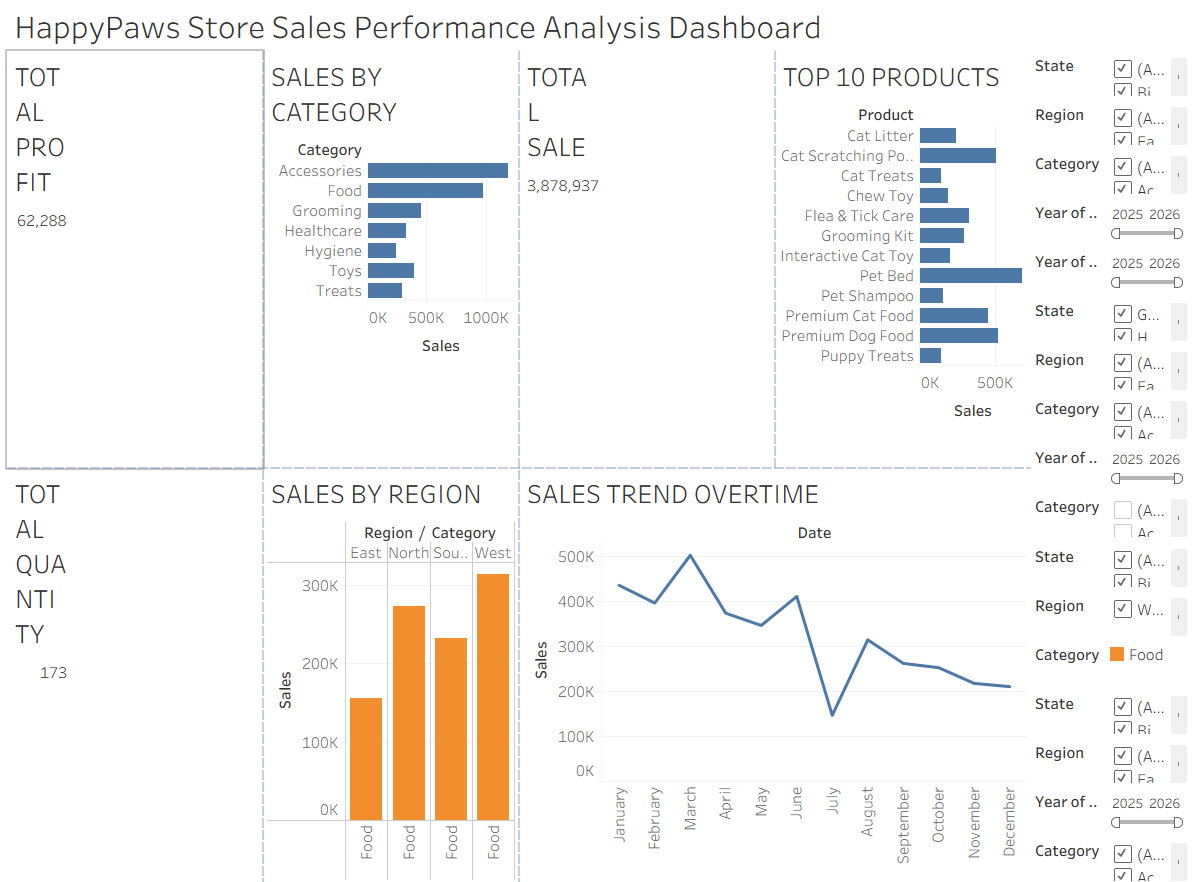

Layout of this report page (visuals, bound fields, positions):
{"tool":"tableau","page":{"name":"HappyPaws Store Sales Performance Analysis Dashboard","canvas":[1200,900],"ordinal":0},"visuals":[{"type":"title","box":[8,8,1184,50]},{"type":"worksheet","title":"TOTAL PROFIT","mark":"Automatic","box":[8,58,255.9,417]},{"type":"worksheet","title":"SALES BY CATEGORY","mark":"Automatic","rows":["Category"],"cols":["Sales"],"box":[264,58,256,417]},{"type":"worksheet","title":"TOTAL SALES","mark":"Automatic","box":[520,58,256,417]},{"type":"worksheet","title":"TOP 10 PRODUCTS","mark":"Automatic","rows":["Product"],"cols":["Sales"],"box":[775.9,58,256.1,417]},{"type":"filter","title":"SALES TREND OVERTIME","param":"[federated.1o7k3lb0frkn5c1e1vnmz1qtkztm].[none:State:nk]","box":[1032,58,160,49]},{"type":"filter","title":"SALES TREND OVERTIME","param":"[federated.1o7k3lb0frkn5c1e1vnmz1qtkztm].[none:Region:nk]","box":[1032,107.1,160,49]},{"type":"filter","title":"SALES TREND OVERTIME","param":"[federated.1o7k3lb0frkn5c1e1vnmz1qtkztm].[none:Category:nk]","box":[1032,156.1,160,49]},{"type":"filter","title":"SALES TREND OVERTIME","param":"[federated.1o7k3lb0frkn5c1e1vnmz1qtkztm].[tyr:Date:qk]","box":[1032,205.2,160,49]},{"type":"filter","title":"SALES BY CATEGORY","param":"[federated.1o7k3lb0frkn5c1e1vnmz1qtkztm].[tyr:Date:qk]","box":[1032,254.2,160,49]},{"type":"filter","title":"SALES BY CATEGORY","param":"[federated.1o7k3lb0frkn5c1e1vnmz1qtkztm].[none:State:nk]","box":[1032,303.3,160,49]},{"type":"filter","title":"SALES BY CATEGORY","param":"[federated.1o7k3lb0frkn5c1e1vnmz1qtkztm].[none:Region:nk]","box":[1032,352.3,160,49]},{"type":"filter","title":"SALES BY CATEGORY","param":"[federated.1o7k3lb0frkn5c1e1vnmz1qtkztm].[none:Category:nk]","box":[1032,401.4,160,49]},{"type":"filter","title":"SALES BY REGION","param":"[federated.1o7k3lb0frkn5c1e1vnmz1qtkztm].[tyr:Date:qk]","box":[1032,450.4,160,49]},{"type":"worksheet","title":"TOTAL QUANTITY","mark":"Automatic","box":[8,475,255.9,417]},{"type":"worksheet","title":"SALES BY REGION","mark":"Automatic","rows":["Sales"],"cols":["Region","Category"],"box":[264,475,256,417]},{"type":"worksheet","title":"SALES TREND OVERTIME","mark":"Automatic","rows":["Sales"],"cols":["Date"],"box":[520,475,512,417]},{"type":"filter","title":"SALES BY REGION","param":"[federated.1o7k3lb0frkn5c1e1vnmz1qtkztm].[none:Category:nk]","box":[1032,499.5,160,49]},{"type":"filter","title":"SALES BY REGION","param":"[federated.1o7k3lb0frkn5c1e1vnmz1qtkztm].[none:State:nk]","box":[1032,548.5,160,49]},{"type":"filter","title":"SALES BY REGION","param":"[federated.1o7k3lb0frkn5c1e1vnmz1qtkztm].[none:Region:nk]","box":[1032,597.6,160,49]},{"type":"legend","title":"SALES BY REGION","param":"[federated.1o7k3lb0frkn5c1e1vnmz1qtkztm].[none:Category:nk]","box":[1032,646.6,160,49]},{"type":"filter","title":"TOP 10 PRODUCTS","param":"[federated.1o7k3lb0frkn5c1e1vnmz1qtkztm].[none:State:nk]","box":[1032,695.7,160,49]},{"type":"filter","title":"TOP 10 PRODUCTS","param":"[federated.1o7k3lb0frkn5c1e1vnmz1qtkztm].[none:Region:nk]","box":[1032,744.7,160,49]},{"type":"filter","title":"TOP 10 PRODUCTS","param":"[federated.1o7k3lb0frkn5c1e1vnmz1qtkztm].[tyr:Date:qk]","box":[1032,793.8,160,49]},{"type":"filter","title":"TOP 10 PRODUCTS","param":"[federated.1o7k3lb0frkn5c1e1vnmz1qtkztm].[none:Category:nk]","box":[1032,842.8,160,49.2]}]}

Visuals, with their boxes in screenshot pixels (x1, y1, x2, y2), scaled from the page's 1200x900 canvas onto the 1199x882 screenshot:
title: pyautogui.locateOnScreen(8, 8, 1191, 57)
"TOTAL PROFIT" worksheet: pyautogui.locateOnScreen(8, 57, 264, 466)
"SALES BY CATEGORY" worksheet: pyautogui.locateOnScreen(264, 57, 520, 466)
"TOTAL SALES" worksheet: pyautogui.locateOnScreen(520, 57, 775, 466)
"TOP 10 PRODUCTS" worksheet: pyautogui.locateOnScreen(775, 57, 1031, 466)
"SALES TREND OVERTIME" filter: pyautogui.locateOnScreen(1031, 57, 1191, 105)
"SALES TREND OVERTIME" filter: pyautogui.locateOnScreen(1031, 105, 1191, 153)
"SALES TREND OVERTIME" filter: pyautogui.locateOnScreen(1031, 153, 1191, 201)
"SALES TREND OVERTIME" filter: pyautogui.locateOnScreen(1031, 201, 1191, 249)
"SALES BY CATEGORY" filter: pyautogui.locateOnScreen(1031, 249, 1191, 297)
"SALES BY CATEGORY" filter: pyautogui.locateOnScreen(1031, 297, 1191, 345)
"SALES BY CATEGORY" filter: pyautogui.locateOnScreen(1031, 345, 1191, 393)
"SALES BY CATEGORY" filter: pyautogui.locateOnScreen(1031, 393, 1191, 441)
"SALES BY REGION" filter: pyautogui.locateOnScreen(1031, 441, 1191, 489)
"TOTAL QUANTITY" worksheet: pyautogui.locateOnScreen(8, 466, 264, 874)
"SALES BY REGION" worksheet: pyautogui.locateOnScreen(264, 466, 520, 874)
"SALES TREND OVERTIME" worksheet: pyautogui.locateOnScreen(520, 466, 1031, 874)
"SALES BY REGION" filter: pyautogui.locateOnScreen(1031, 490, 1191, 538)
"SALES BY REGION" filter: pyautogui.locateOnScreen(1031, 538, 1191, 586)
"SALES BY REGION" filter: pyautogui.locateOnScreen(1031, 586, 1191, 634)
"SALES BY REGION" legend: pyautogui.locateOnScreen(1031, 634, 1191, 682)
"TOP 10 PRODUCTS" filter: pyautogui.locateOnScreen(1031, 682, 1191, 730)
"TOP 10 PRODUCTS" filter: pyautogui.locateOnScreen(1031, 730, 1191, 778)
"TOP 10 PRODUCTS" filter: pyautogui.locateOnScreen(1031, 778, 1191, 826)
"TOP 10 PRODUCTS" filter: pyautogui.locateOnScreen(1031, 826, 1191, 874)
